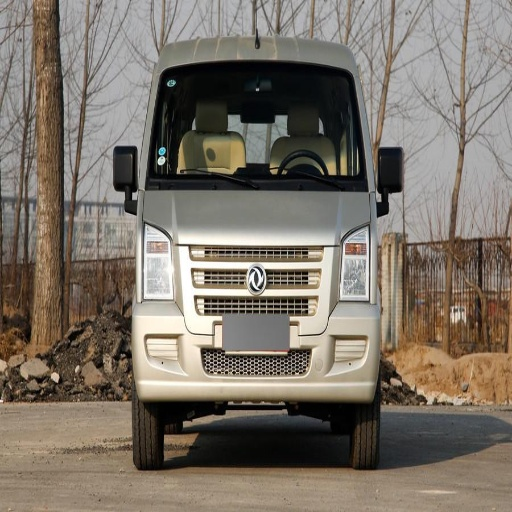front_bumper: (134, 244, 386, 400)
front_right_light: (135, 232, 176, 301)
hood: (150, 191, 368, 249)
